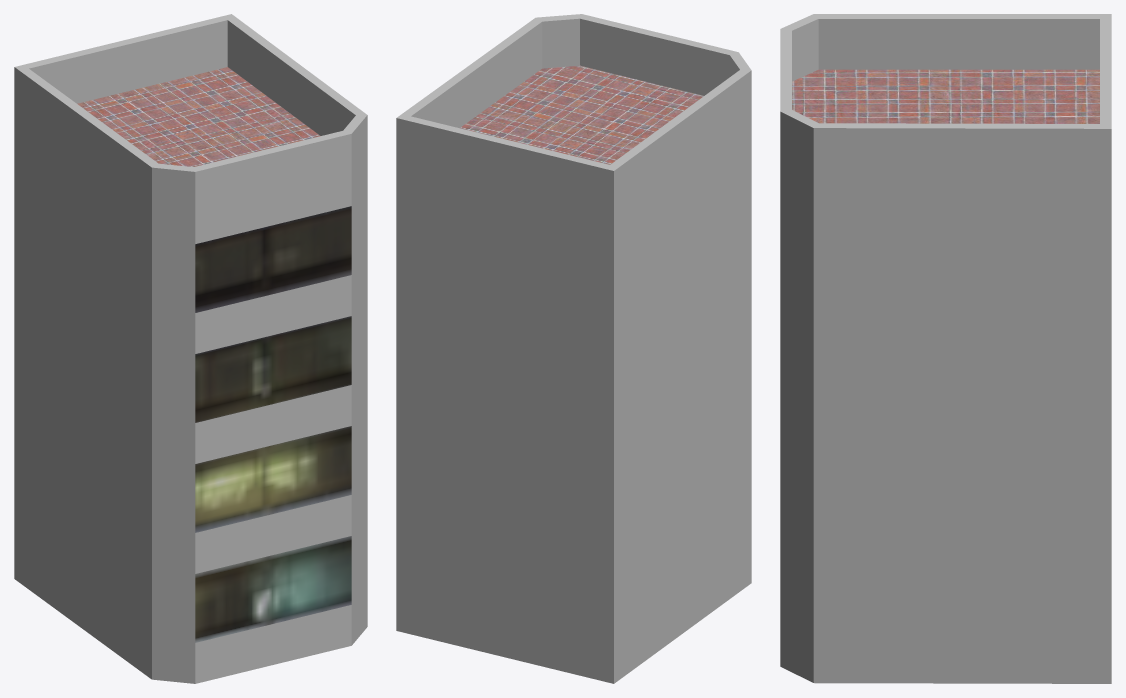
Rendered from hirise_parts01_4f.fbx.
3 views of the same model, side by side, from view 1: azimuth 30°, elevation 25°; view 2: azimuth 150°, elevation 25°; view 3: azimuth 270°, elevation 25° (orthographic). The views are drawn at different scales.
Visible parts, largest first — view 1: hirise_parts01_4f; view 2: hirise_parts01_4f; view 3: hirise_parts01_4f.
Part boxes in pixels (x1=…): hirise_parts01_4f: x1=14, y1=14, x2=367, y2=683; hirise_parts01_4f: x1=396, y1=14, x2=751, y2=683; hirise_parts01_4f: x1=780, y1=14, x2=1111, y2=683.
Size of the model in its own units: 6.4 by 14.42 by 7.8.
